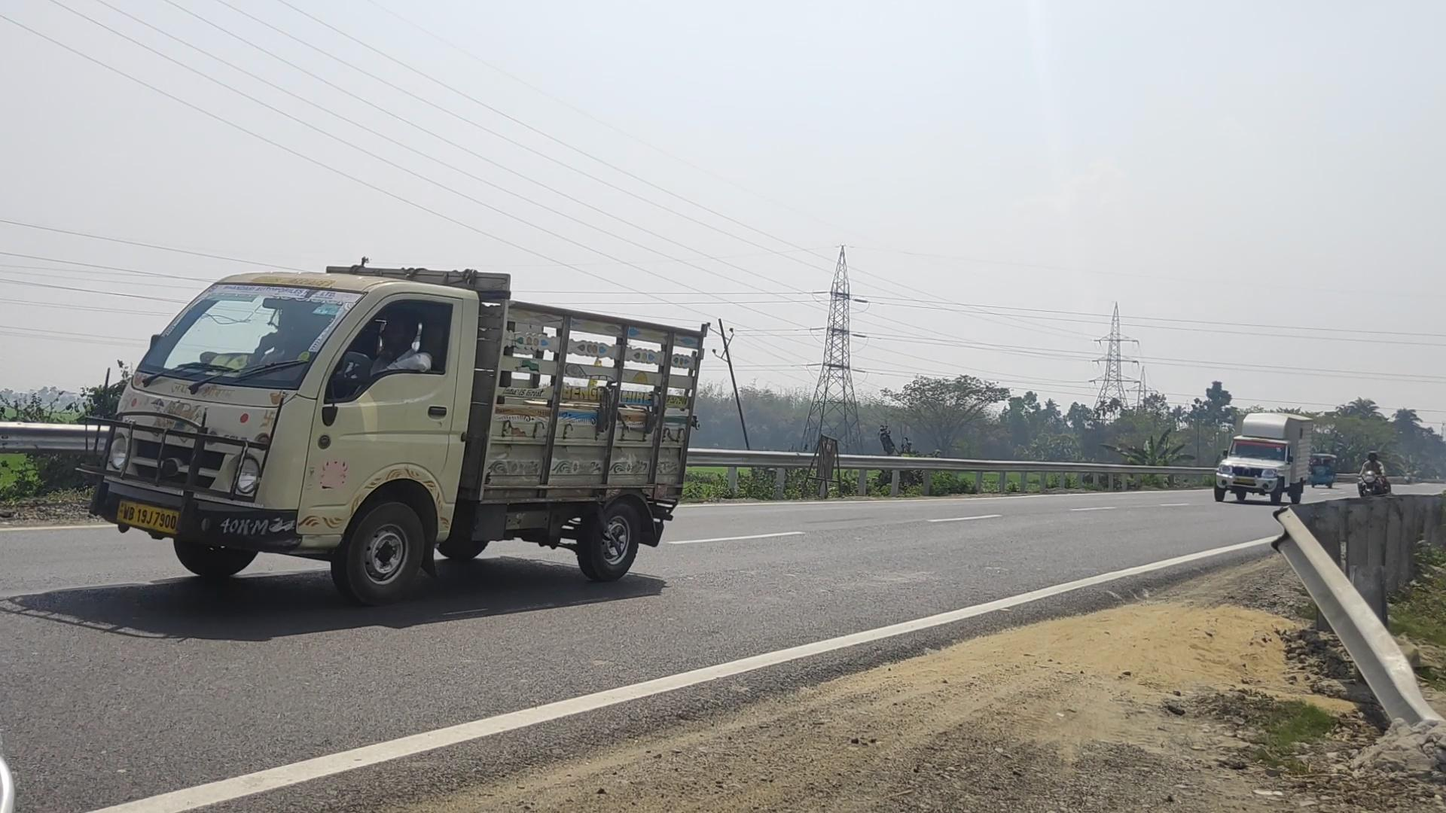Auto: (1310, 452, 1337, 489)
bike: (1356, 451, 1391, 511)
van: (79, 265, 709, 610), (1214, 412, 1313, 506)
